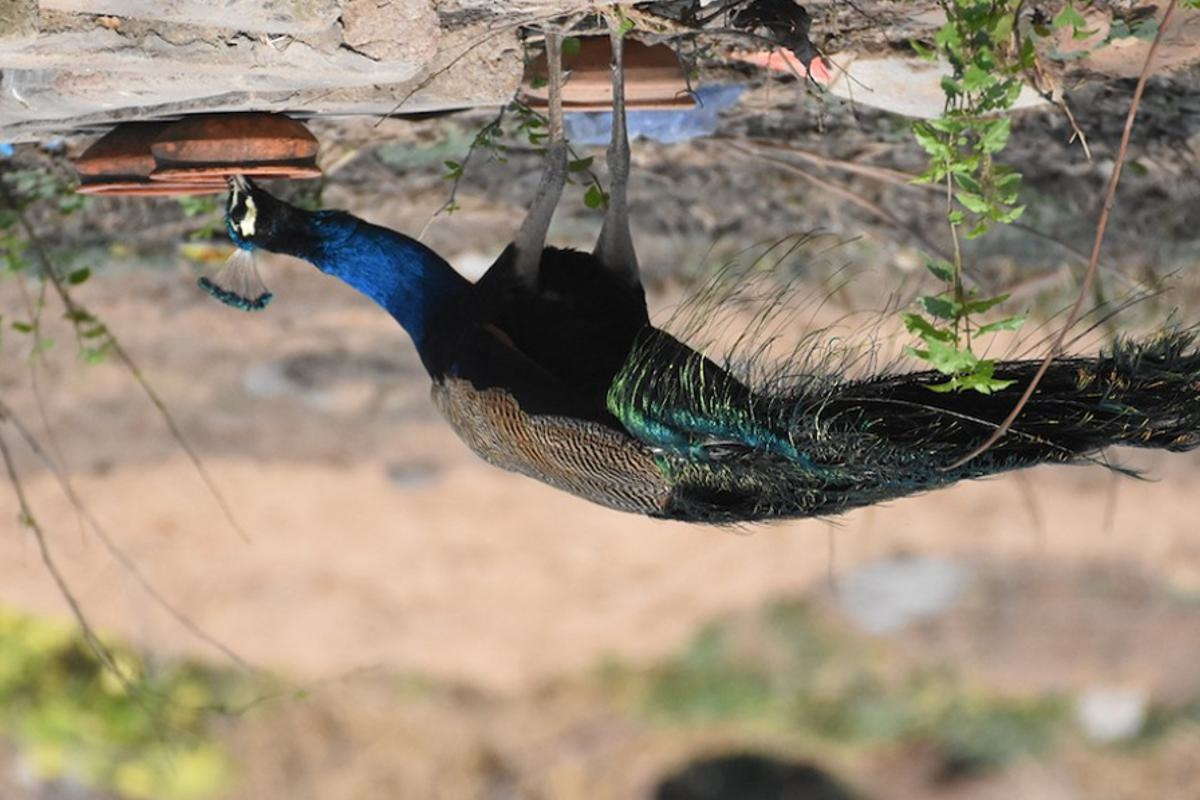peacock: (193, 83, 1200, 534)
